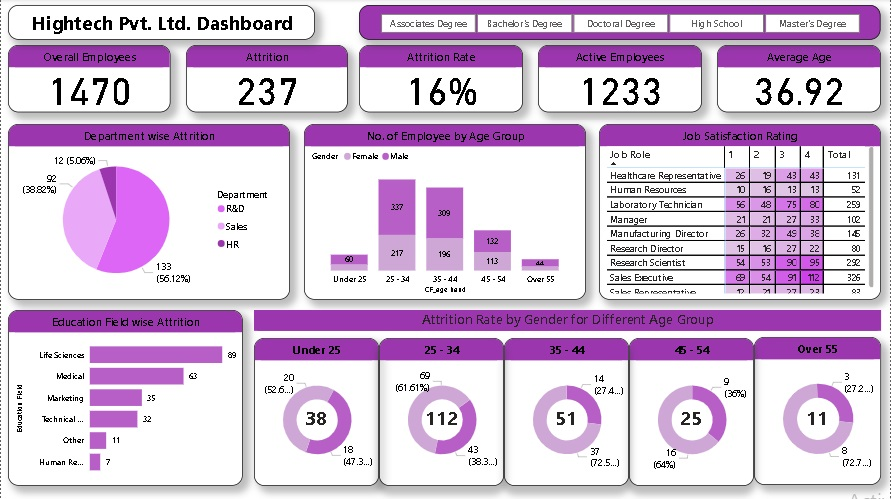

What the dashboard file says about the page in this screenshot:
{"tool":"powerbi","page":{"name":"Page 1","canvas":[1280,720],"ordinal":0},"visuals":[{"type":"card","title":"Overall Employees","fields":{"Values":["Sum(HR data.Employee Count)"]},"box":[10.5,66.8,234.3,96.9],"z":0},{"type":"card","title":"Attrition","fields":{"Values":["Sum(HR data.Attrition Count)"]},"box":[265.7,66.8,233,96.9],"z":1000},{"type":"card","title":"Attrition Rate","fields":{"Values":["HR data.Attrition Rate"]},"box":[515.8,66.8,235.6,96.9],"z":2000},{"type":"card","title":"Active Employees","fields":{"Values":["HR data.Active Employees"]},"box":[773.7,66.8,235.6,96.9],"z":3000},{"type":"card","title":"Average Age","fields":{"Values":["Avg(HR data.Age)"]},"box":[1031.6,66.8,235.6,96.9],"z":4000},{"type":"pieChart","title":"Department wise Attrition","fields":{"Category":["HR data.Department"],"Y":["Sum(HR data.Attrition Count)"]},"box":[10.1,180,406.1,253.4],"z":5000},{"type":"columnChart","title":"No. of Employee by Age Group","fields":{"Category":["HR data.CF_age band"],"Y":["Sum(HR data.Employee Count)"],"Series":["HR data.Gender"]},"box":[436.3,180,406.1,253.4],"z":6000},{"type":"pivotTable","title":"Job Satisfaction Rating","fields":{"Rows":["HR data.Job Role"],"Columns":["HR data.Job Satisfaction"],"Values":["Sum(HR data.Employee Count)"]},"box":[861.1,180,406.1,253.4],"z":6001},{"type":"barChart","title":"Education Field wise Attrition","fields":{"Category":["HR data.Education Field"],"Y":["Sum(HR data.Attrition Count)"]},"box":[10.1,447.8,338.4,253.4],"z":6002},{"type":"donutChart","title":"Under 25","fields":{"Category":["HR data.Gender"],"Y":["Sum(HR data.Attrition Count)"],"Series":["HR data.CF_age band"]},"box":[364.3,488.6,180,212.9],"z":6003},{"type":"textbox","title":"Attrition Rate by Gender for Different Age Group","box":[364.3,447.1,902.9,34.3],"z":6004},{"type":"donutChart","title":"Over 55","fields":{"Category":["HR data.Gender"],"Y":["Sum(HR data.Attrition Count)"],"Series":["HR data.CF_age band"]},"box":[1084.3,487.1,182.9,212.9],"z":6005},{"type":"donutChart","title":"45 - 54","fields":{"Category":["HR data.Gender"],"Y":["Sum(HR data.Attrition Count)"],"Series":["HR data.CF_age band"]},"box":[904.3,488.6,180,212.9],"z":6006},{"type":"donutChart","title":"35 - 44","fields":{"Category":["HR data.Gender"],"Y":["Sum(HR data.Attrition Count)"],"Series":["HR data.CF_age band"]},"box":[724.3,488.6,180,212.9],"z":6007},{"type":"donutChart","title":"25 - 34","fields":{"Category":["HR data.Gender"],"Y":["Sum(HR data.Attrition Count)"],"Series":["HR data.CF_age band"]},"box":[544.3,488.6,180,212.9],"z":6008},{"type":"card","fields":{"Values":["Sum(HR data.Attrition Count)"]},"box":[412.9,560,81.4,87.1],"z":6009},{"type":"card","fields":{"Values":["Sum(HR data.Attrition Count)"]},"box":[592.9,560,81.4,87.1],"z":6010},{"type":"card","fields":{"Values":["Sum(HR data.Attrition Count)"]},"box":[772.9,560,81.4,87.1],"z":6011},{"type":"card","fields":{"Values":["Sum(HR data.Attrition Count)"]},"box":[952.9,560,81.4,87.1],"z":6012},{"type":"card","fields":{"Values":["Sum(HR data.Attrition Count)"]},"box":[1134.3,560,81.4,87.1],"z":6013},{"type":"textbox","title":"Hightech Pvt. Ltd. Dashboard","box":[10.5,9.2,442.5,49.7],"z":6014},{"type":"slicer","fields":{"Values":["HR data.Education"]},"box":[515.8,9.2,751.4,49.7],"z":6015}]}

Visuals, with their boxes in screenshot pixels (x1, y1, x2, y2), scaled from the page's 1280x720 canvas onto the 891x499 screenshot:
"Overall Employees" card: x1=7 y1=46 x2=170 y2=113
"Attrition" card: x1=185 y1=46 x2=347 y2=113
"Attrition Rate" card: x1=359 y1=46 x2=523 y2=113
"Active Employees" card: x1=539 y1=46 x2=703 y2=113
"Average Age" card: x1=718 y1=46 x2=882 y2=113
"Department wise Attrition" pieChart: x1=7 y1=125 x2=290 y2=300
"No. of Employee by Age Group" columnChart: x1=304 y1=125 x2=586 y2=300
"Job Satisfaction Rating" pivotTable: x1=599 y1=125 x2=882 y2=300
"Education Field wise Attrition" barChart: x1=7 y1=310 x2=243 y2=486
"Under 25" donutChart: x1=254 y1=339 x2=379 y2=486
"Attrition Rate by Gender for Different Age Group" textbox: x1=254 y1=310 x2=882 y2=334
"Over 55" donutChart: x1=755 y1=338 x2=882 y2=485
"45 - 54" donutChart: x1=629 y1=339 x2=755 y2=486
"35 - 44" donutChart: x1=504 y1=339 x2=629 y2=486
"25 - 34" donutChart: x1=379 y1=339 x2=504 y2=486
card - Sum(HR data.Attrition Count): x1=287 y1=388 x2=344 y2=448
card - Sum(HR data.Attrition Count): x1=413 y1=388 x2=469 y2=448
card - Sum(HR data.Attrition Count): x1=538 y1=388 x2=595 y2=448
card - Sum(HR data.Attrition Count): x1=663 y1=388 x2=720 y2=448
card - Sum(HR data.Attrition Count): x1=790 y1=388 x2=846 y2=448
"Hightech Pvt. Ltd. Dashboard" textbox: x1=7 y1=6 x2=315 y2=41
slicer - HR data.Education: x1=359 y1=6 x2=882 y2=41
